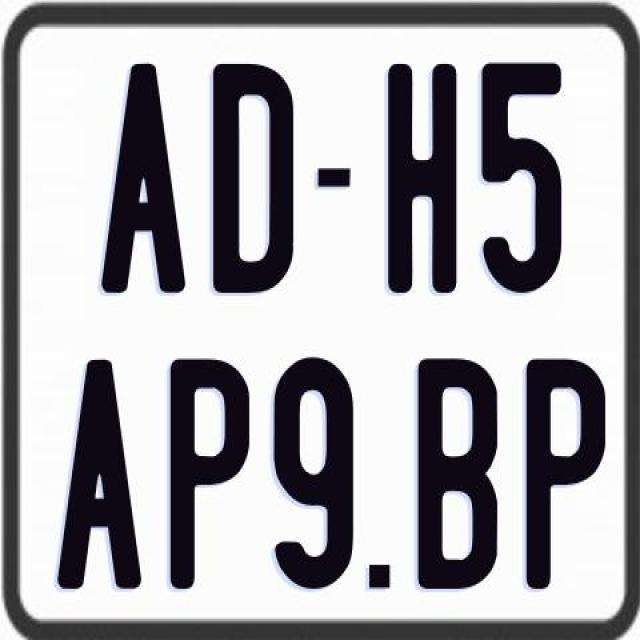5: (481, 63, 563, 294)
9: (269, 352, 356, 586)
A: (100, 59, 188, 290), (54, 358, 138, 596)
B: (414, 355, 500, 592)
D: (212, 61, 292, 294)
H: (384, 63, 459, 294)
P: (168, 357, 254, 592), (522, 355, 602, 587)
